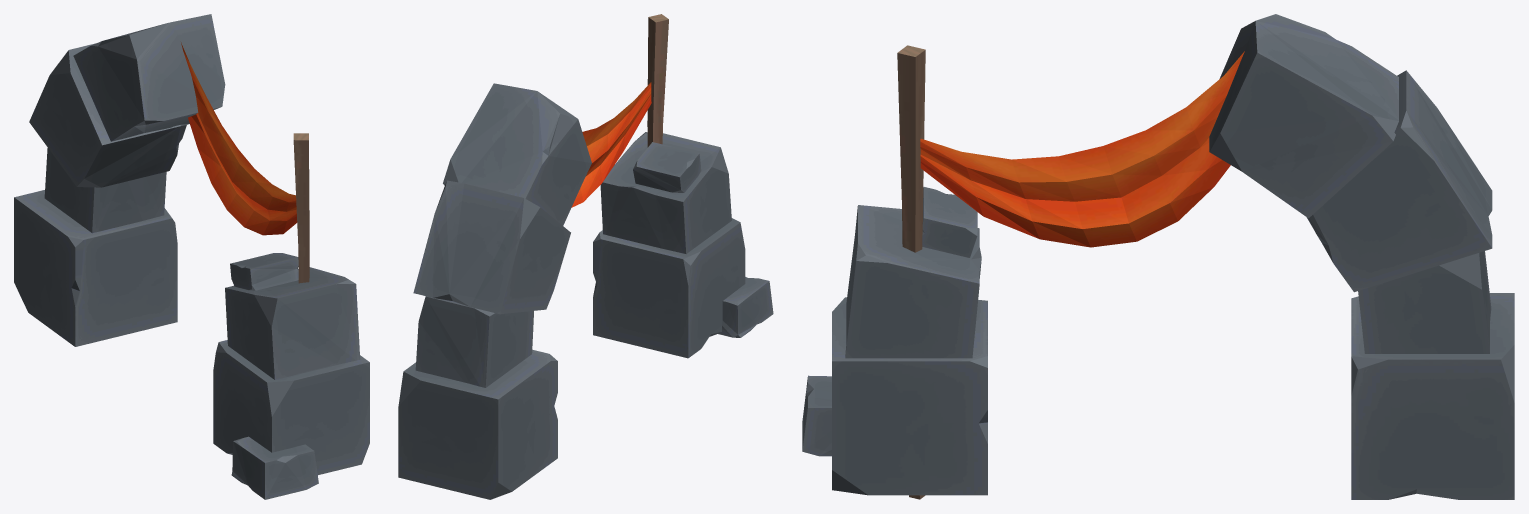
Rendered from WallEntrance2B-003_40_24_7452.fbx.
The picture shows the model from 3 angles, left to right: view 1: azimuth 30°, elevation 25°; view 2: azimuth 150°, elevation 25°; view 3: azimuth 270°, elevation 25°; orthographic projection. The views are drawn at different scales.
Visible parts, largest first — view 1: Arch, Cloth1 (2), Wood1.002 (4); view 2: Arch, Cloth1 (2), Wood1.002 (4); view 3: Arch, Cloth1 (2), Wood1.002 (4).
Part boxes in pixels (bbox=[...]): Arch: bbox=[14, 14, 369, 499]; Cloth1 (2): bbox=[181, 42, 297, 235]; Wood1.002 (4): bbox=[293, 133, 309, 283]; Arch: bbox=[398, 83, 773, 499]; Cloth1 (2): bbox=[571, 82, 651, 207]; Wood1.002 (4): bbox=[647, 14, 668, 147]; Arch: bbox=[802, 14, 1514, 499]; Cloth1 (2): bbox=[920, 51, 1244, 247]; Wood1.002 (4): bbox=[897, 45, 925, 499].
Bounding box in the file's own units: 1.58 × 4.53 × 6.19.
